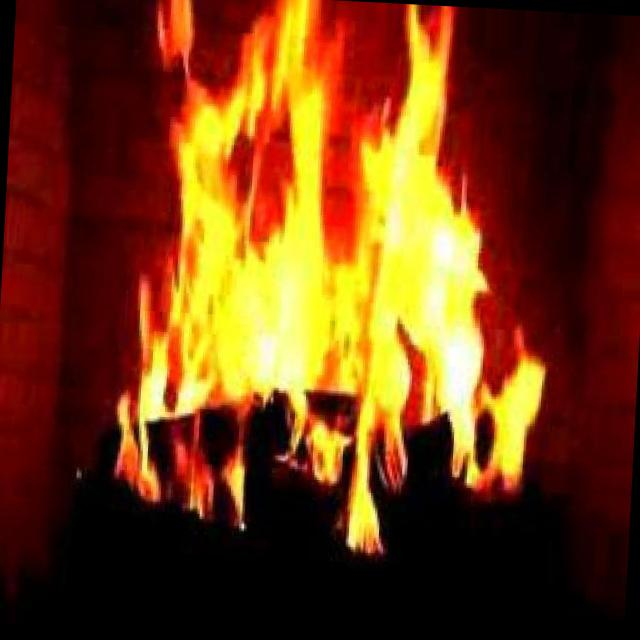Fire: (73, 0, 575, 576)
